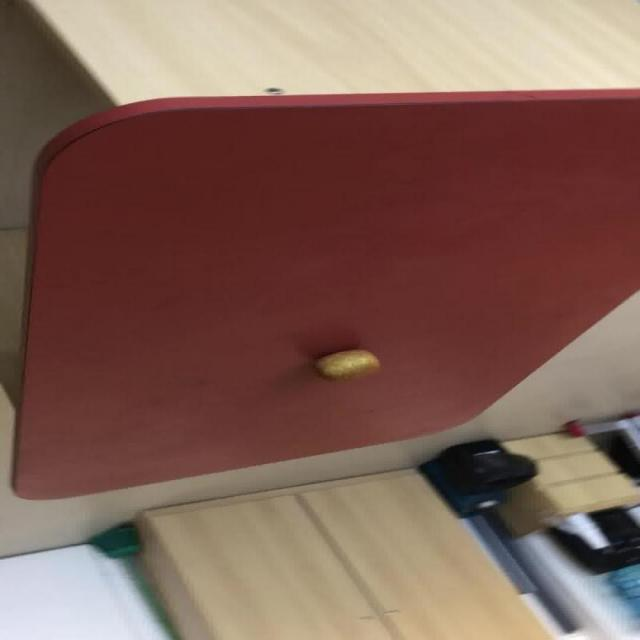Kiwi: (312, 349, 379, 380)
